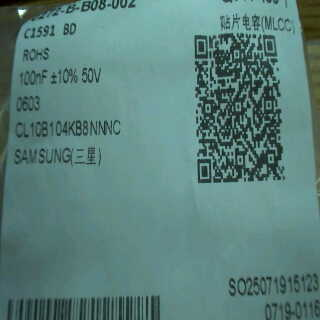100nF: (14, 68, 49, 92)
